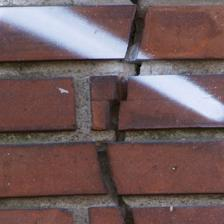Crack: (47, 3, 105, 221)
